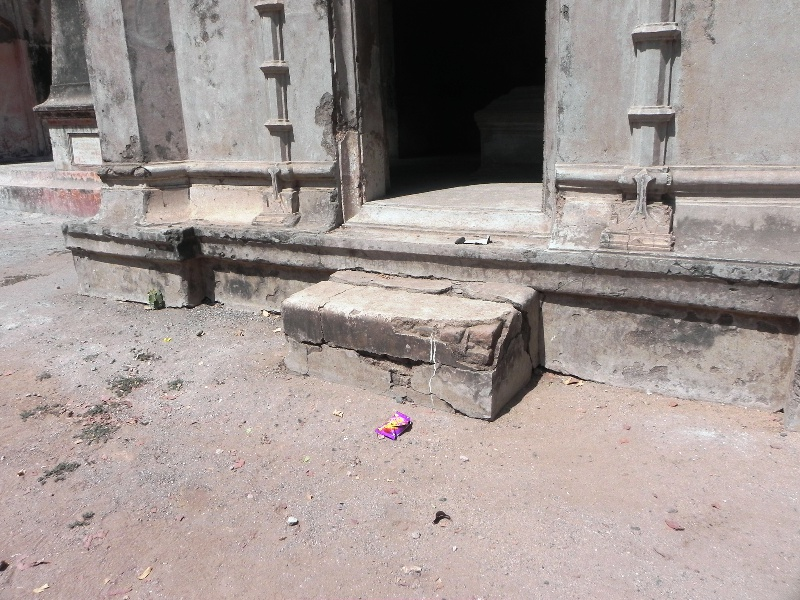Spalling: (309, 79, 353, 160)
